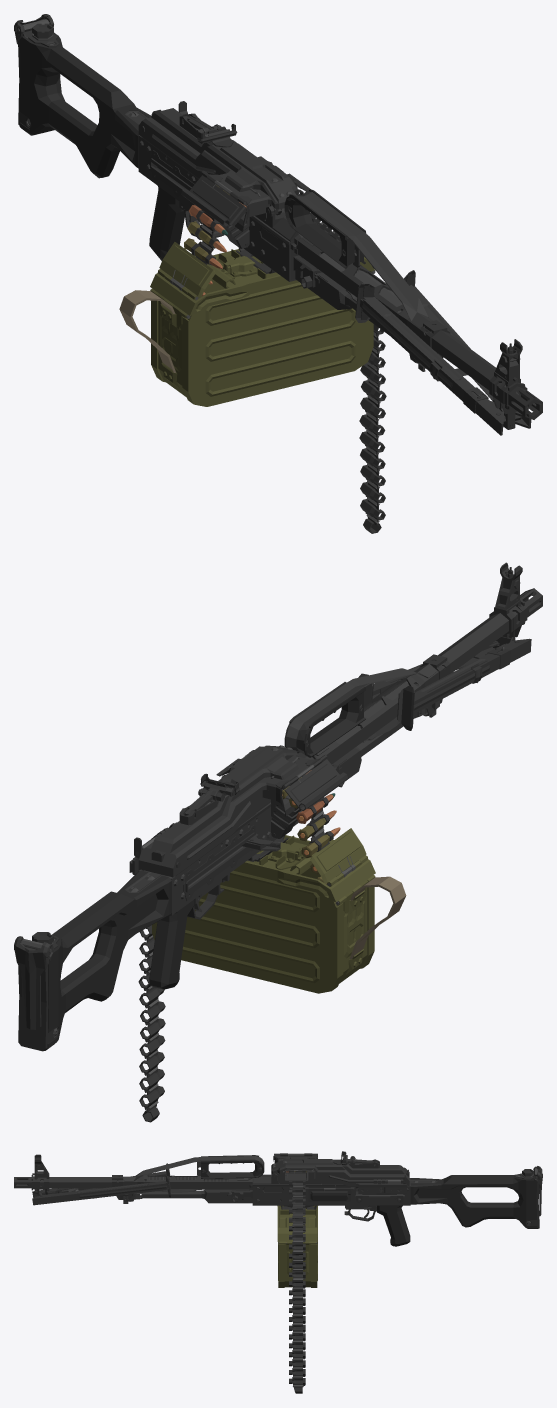
The picture shows the model from 3 angles, top to bottom: view 1: azimuth 30°, elevation 25°; view 2: azimuth 150°, elevation 25°; view 3: azimuth 270°, elevation 25°; orthographic projection. The views are drawn at different scales.
Parts seen in each view (by area): view 1: boxbody_164, barrel_157, stock_4, topcover_138, receiver_6, rightleg_148, lid_162, coverrightdust_131, feedlid_158, grip_21, trunnion_16, gastube_7 (+2 smaller); view 2: boxbody_164, stock_4, barrel_157, topcover_138, receiver_6, lid_162, rightleg_148, grip_21, shoulderrestpin_0, coverrightdust_131, feedlid_158, frontsight_154 (+3 smaller); view 3: stock_4, barrel_157, topcover_138, receiver_6, leftleg_147, boxbody_164, gastube_7, lid_162, grip_21, dovetail_168, ejectioncover_8, trunnion_16 (+3 smaller).
Part boxes in pixels (x1=…): boxbody_164: x1=119, y1=279, x2=373, y2=406; barrel_157: x1=284, y1=189, x2=542, y2=419; stock_4: x1=18, y1=16, x2=151, y2=178; topcover_138: x1=138, y1=108, x2=297, y2=214; receiver_6: x1=125, y1=111, x2=296, y2=281; rightleg_148: x1=355, y1=283, x2=503, y2=435; lid_162: x1=150, y1=249, x2=375, y2=319; coverrightdust_131: x1=181, y1=175, x2=246, y2=226; feedlid_158: x1=157, y1=242, x2=215, y2=300; grip_21: x1=149, y1=186, x2=184, y2=260; trunnion_16: x1=255, y1=206, x2=321, y2=288; gastube_7: x1=295, y1=268, x2=388, y2=334; boxbody_164: x1=152, y1=868, x2=406, y2=993; stock_4: x1=18, y1=870, x2=171, y2=1051; barrel_157: x1=284, y1=588, x2=542, y2=764; topcover_138: x1=138, y1=745, x2=327, y2=877; receiver_6: x1=125, y1=802, x2=298, y2=919; lid_162: x1=235, y1=835, x2=375, y2=905; rightleg_148: x1=397, y1=638, x2=531, y2=730; grip_21: x1=149, y1=899, x2=194, y2=989; shoulderrestpin_0: x1=14, y1=936, x2=53, y2=1029; coverrightdust_131: x1=284, y1=759, x2=347, y2=810; feedlid_158: x1=310, y1=828, x2=367, y2=886; frontsight_154: x1=489, y1=562, x2=525, y2=637; stock_4: x1=410, y1=1167, x2=539, y2=1228; barrel_157: x1=14, y1=1155, x2=264, y2=1192; topcover_138: x1=271, y1=1151, x2=409, y2=1185; receiver_6: x1=252, y1=1178, x2=437, y2=1221; leftleg_147: x1=32, y1=1174, x2=170, y2=1205; boxbody_164: x1=278, y1=1207, x2=317, y2=1287; gastube_7: x1=136, y1=1189, x2=252, y2=1203; lid_162: x1=277, y1=1205, x2=317, y2=1244; grip_21: x1=377, y1=1205, x2=410, y2=1246; dovetail_168: x1=358, y1=1179, x2=407, y2=1198; ejectioncover_8: x1=308, y1=1188, x2=350, y2=1201; trunnion_16: x1=231, y1=1173, x2=320, y2=1202.
Size of the model in its own units: 0.3374 by 0.5047 by 1.16.
